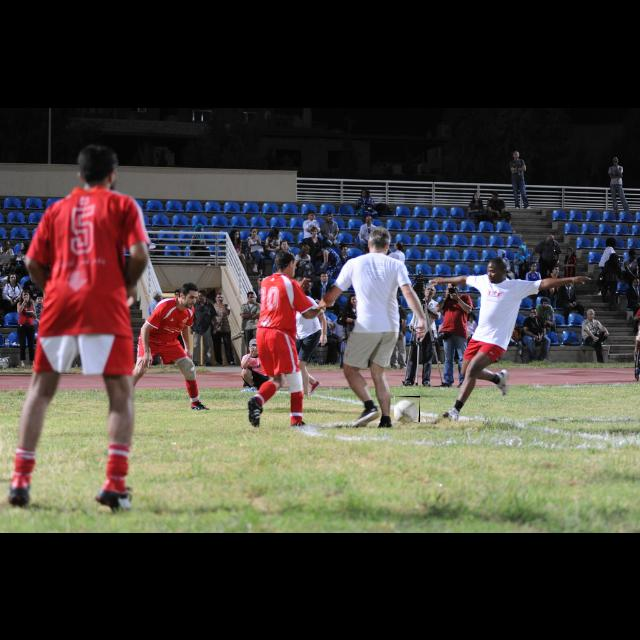Football: (394, 396, 420, 422)
